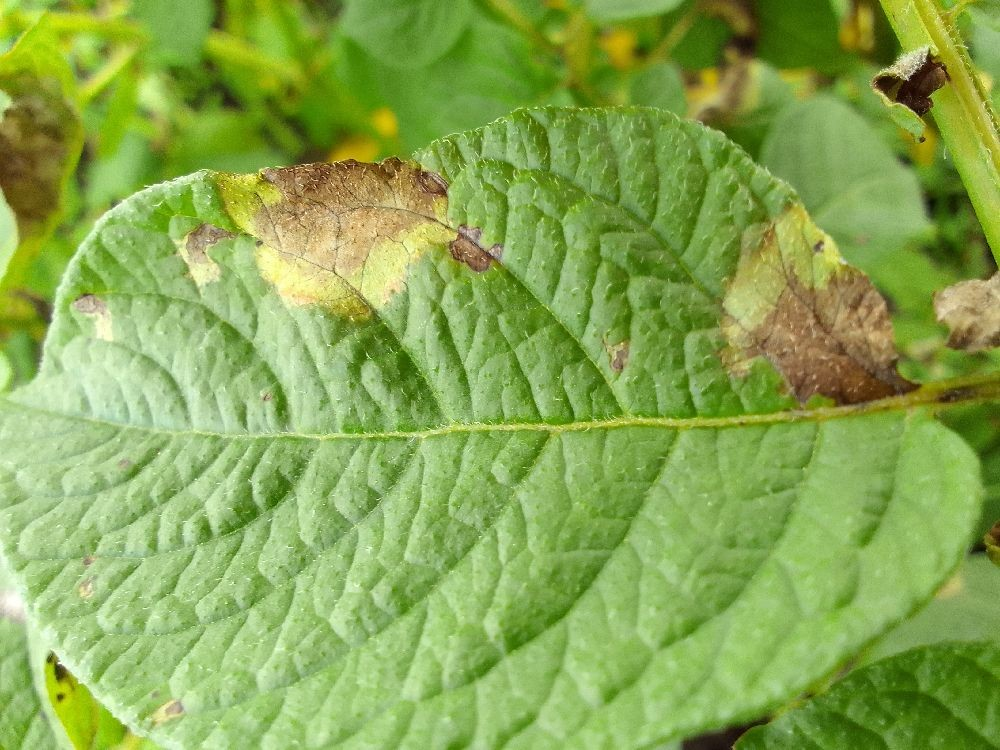late_blight: (702, 208, 999, 432), (230, 62, 472, 305), (662, 0, 778, 146), (0, 72, 91, 250)
